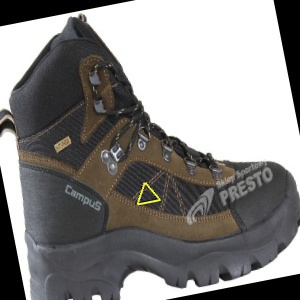triangle: (135, 181, 162, 207)
